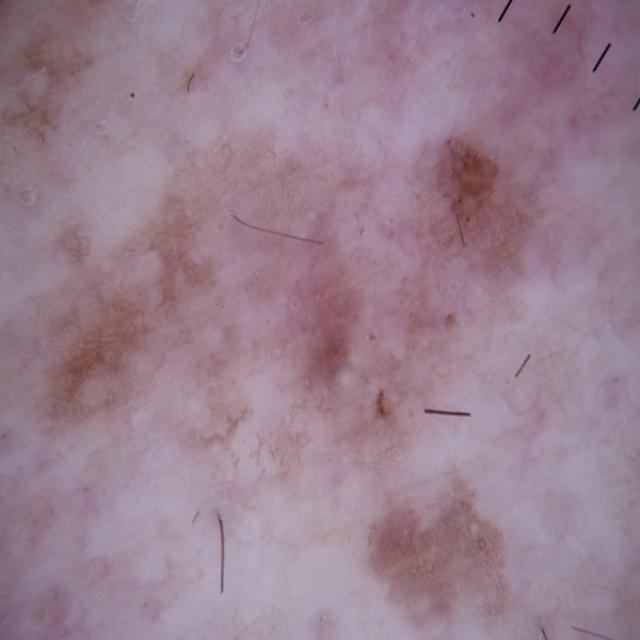Skin-Cancer Pigmented benign keratosis: (13, 4, 627, 640)
